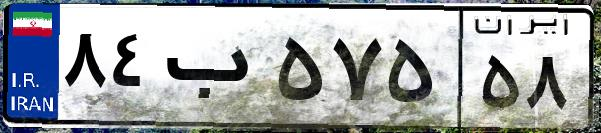4: (110, 28, 158, 98)
5: (270, 28, 330, 110), (385, 28, 445, 110), (475, 38, 525, 113)
7: (330, 28, 385, 110)
8: (57, 26, 110, 100), (525, 38, 570, 115)
ب: (158, 20, 270, 120)
